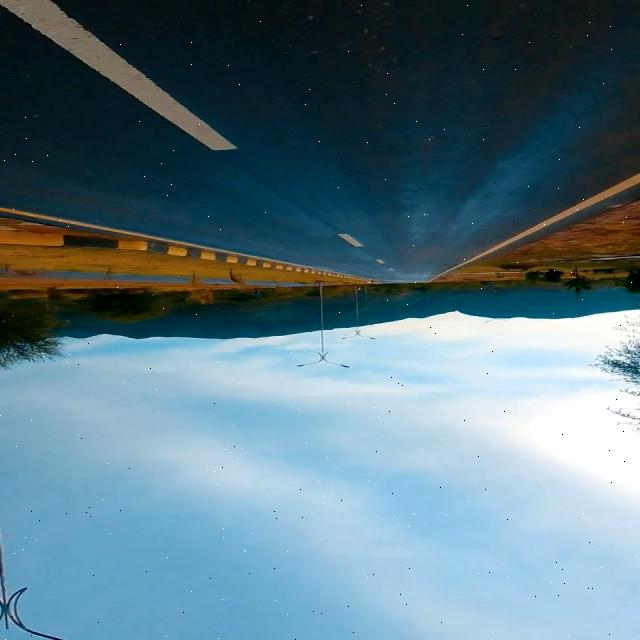lane: (2, 1, 234, 148), (448, 176, 639, 272)
road: (1, 2, 638, 282)
